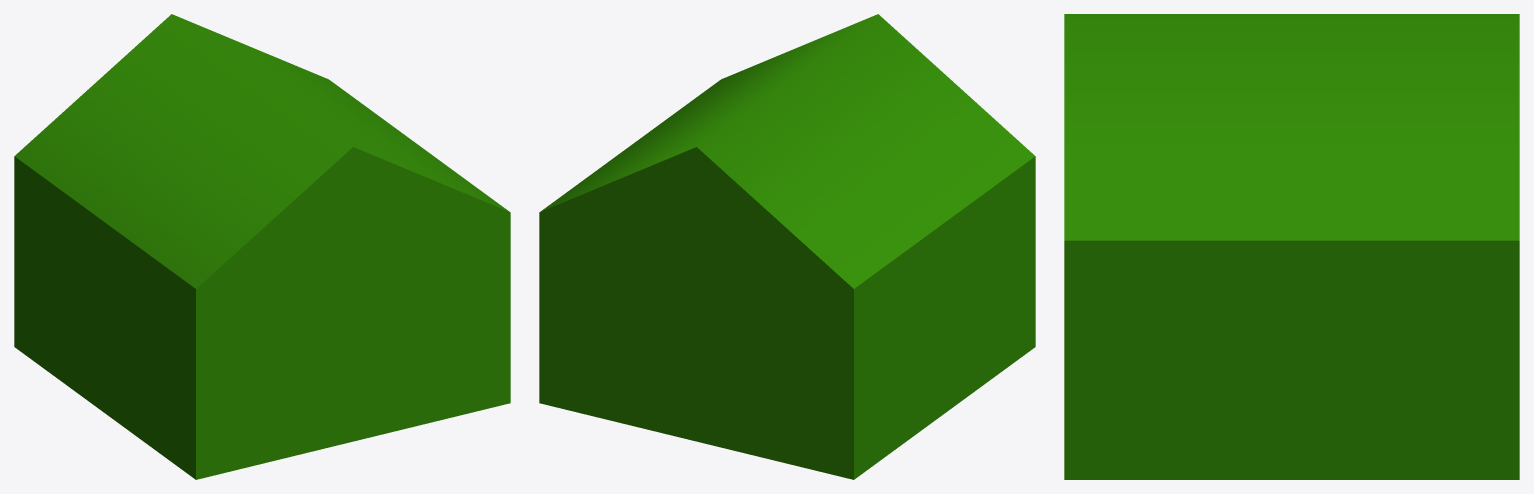
Rendered from SmallHouse.fbx.
3 views of the same model, side by side, from view 1: azimuth 30°, elevation 25°; view 2: azimuth 150°, elevation 25°; view 3: azimuth 270°, elevation 25° (orthographic). The views are drawn at different scales.
Parts seen in each view (by area): view 1: SmallHouse; view 2: SmallHouse; view 3: SmallHouse.
Part boxes in pixels (box(x1,y1,x2,y2)): SmallHouse: box(14, 14, 510, 479); SmallHouse: box(539, 14, 1035, 479); SmallHouse: box(1064, 14, 1519, 479).
Size of the model in its own units: 1 by 0.8954 by 1.
